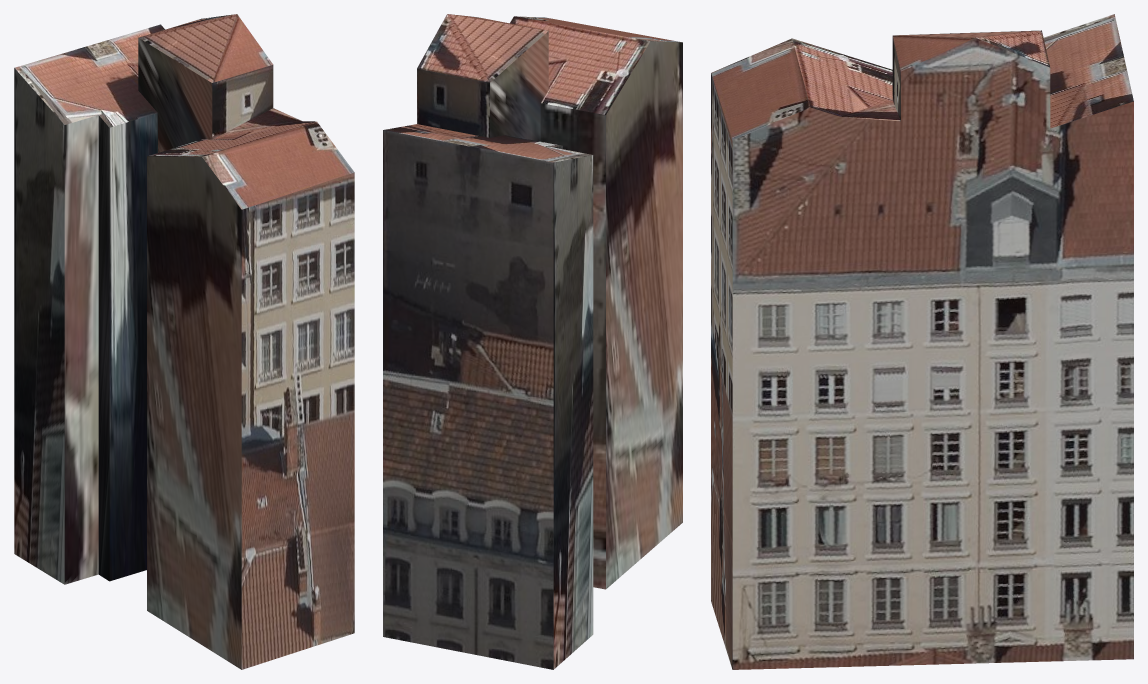
3 renders of one model, left to right at view 1: azimuth 30°, elevation 25°; view 2: azimuth 150°, elevation 25°; view 3: azimuth 270°, elevation 25°, orthographic. The views are drawn at different scales.
Parts seen in each view (by area): view 1: Z_UP; view 2: Z_UP; view 3: Z_UP.
Part boxes in pixels (x1=…): Z_UP: x1=14, y1=14, x2=354, y2=669; Z_UP: x1=383, y1=14, x2=682, y2=669; Z_UP: x1=711, y1=14, x2=1133, y2=669.
Size of the model in its own units: 9.5 by 28.41 by 17.4.
Materials: 2 (1 with a texture image).
